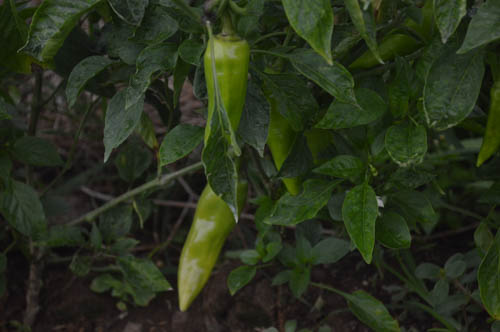ChiliPepper: (176, 179, 247, 308), (204, 37, 250, 148), (264, 104, 300, 194)
